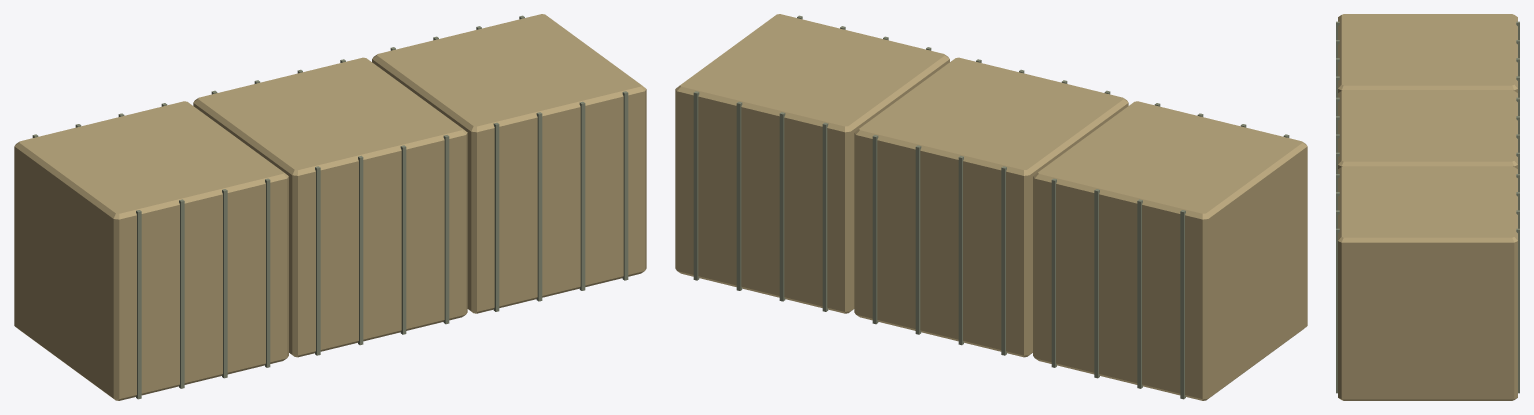
Rendered from hesco_barrier.glb.
The picture shows the model from 3 angles, left to right: view 1: azimuth 30°, elevation 25°; view 2: azimuth 150°, elevation 25°; view 3: azimuth 270°, elevation 25°; orthographic projection. The views are drawn at different scales.
Parts seen in each view (by area): view 1: hesco_barrier; view 2: hesco_barrier; view 3: hesco_barrier.
Part boxes in pixels (box(x1,y1,x2,y2)): hesco_barrier: box(14, 14, 646, 400); hesco_barrier: box(675, 14, 1307, 400); hesco_barrier: box(1336, 14, 1519, 400).
Bounding box in the file's own units: 2.98 × 1 × 1.02.
